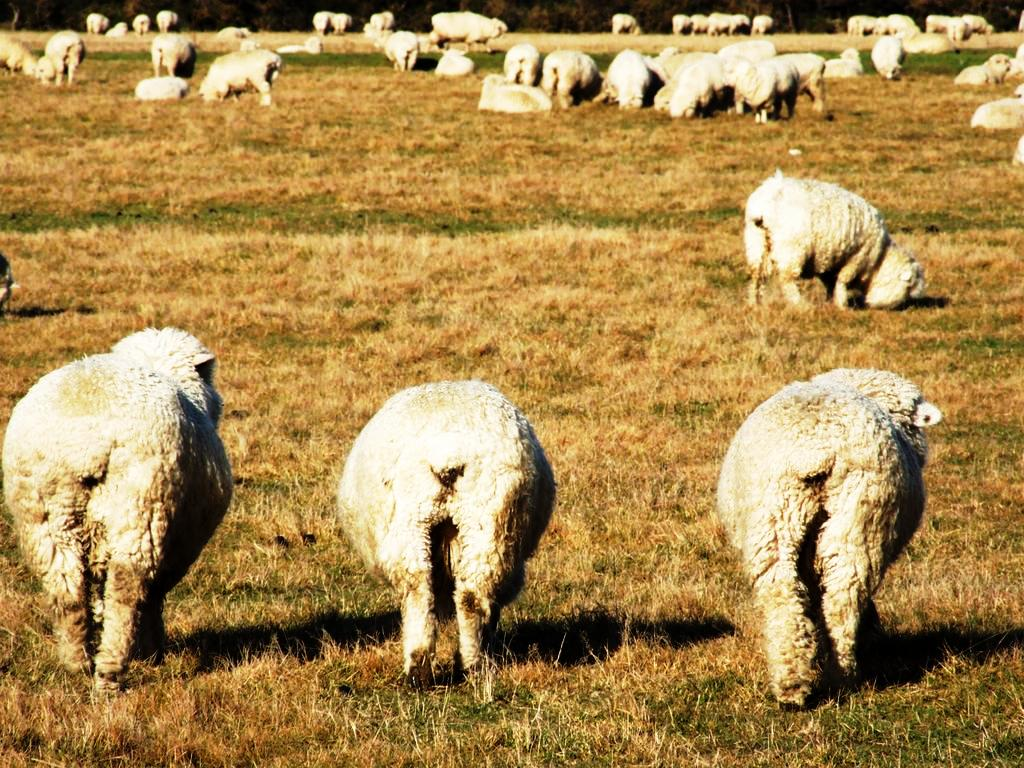Sheep: (0, 325, 237, 688), (718, 367, 946, 709), (338, 377, 551, 686), (742, 164, 923, 304), (196, 48, 289, 122), (736, 51, 804, 129), (665, 50, 725, 124), (544, 39, 609, 105), (475, 69, 546, 125), (426, 12, 515, 52), (144, 30, 209, 78), (42, 30, 88, 92), (616, 48, 659, 108), (872, 34, 912, 90), (381, 25, 420, 81), (962, 92, 1024, 126), (130, 76, 185, 112), (438, 50, 488, 84), (954, 56, 1022, 80), (819, 42, 859, 76), (941, 14, 975, 52), (614, 12, 650, 42), (748, 7, 778, 42), (0, 26, 21, 74), (674, 4, 692, 49), (86, 11, 112, 40), (308, 12, 338, 36), (132, 12, 158, 32)
